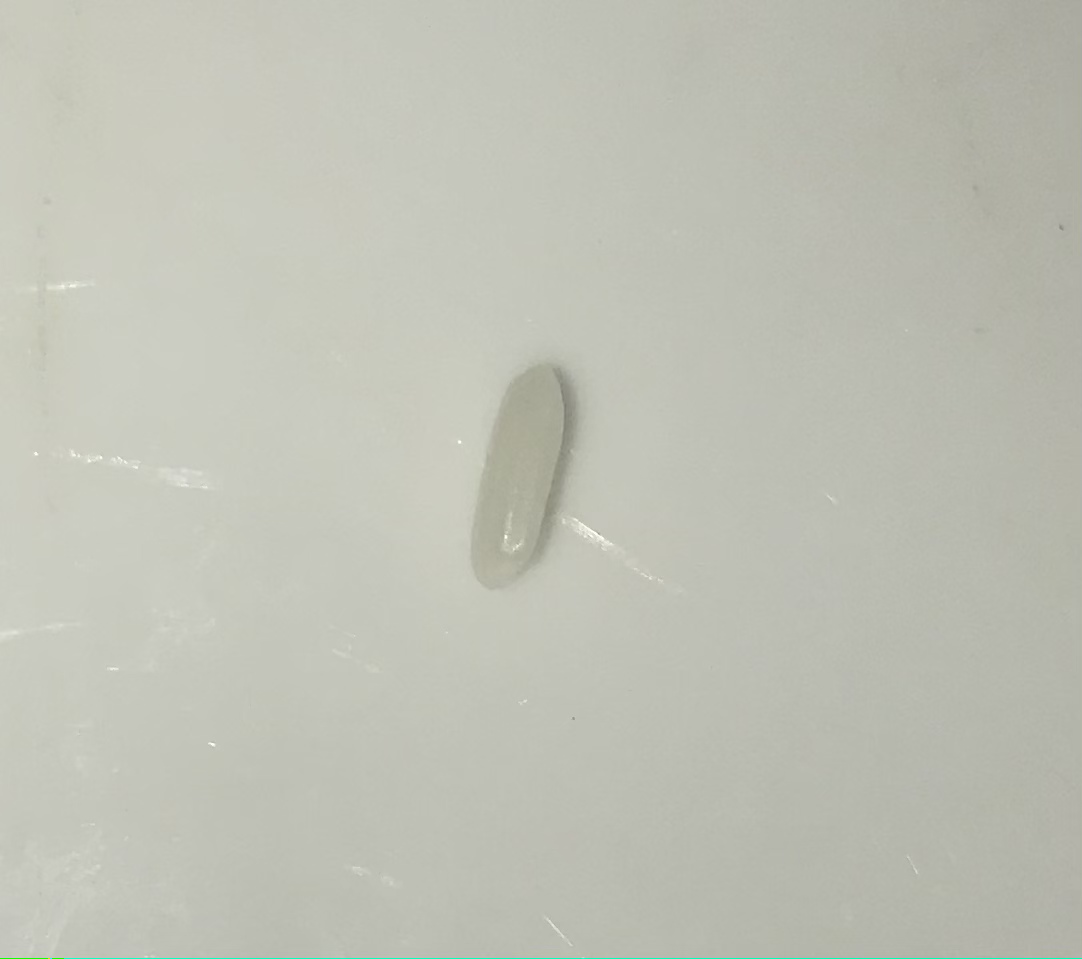Gao Lai Sua: (463, 352, 578, 595)
